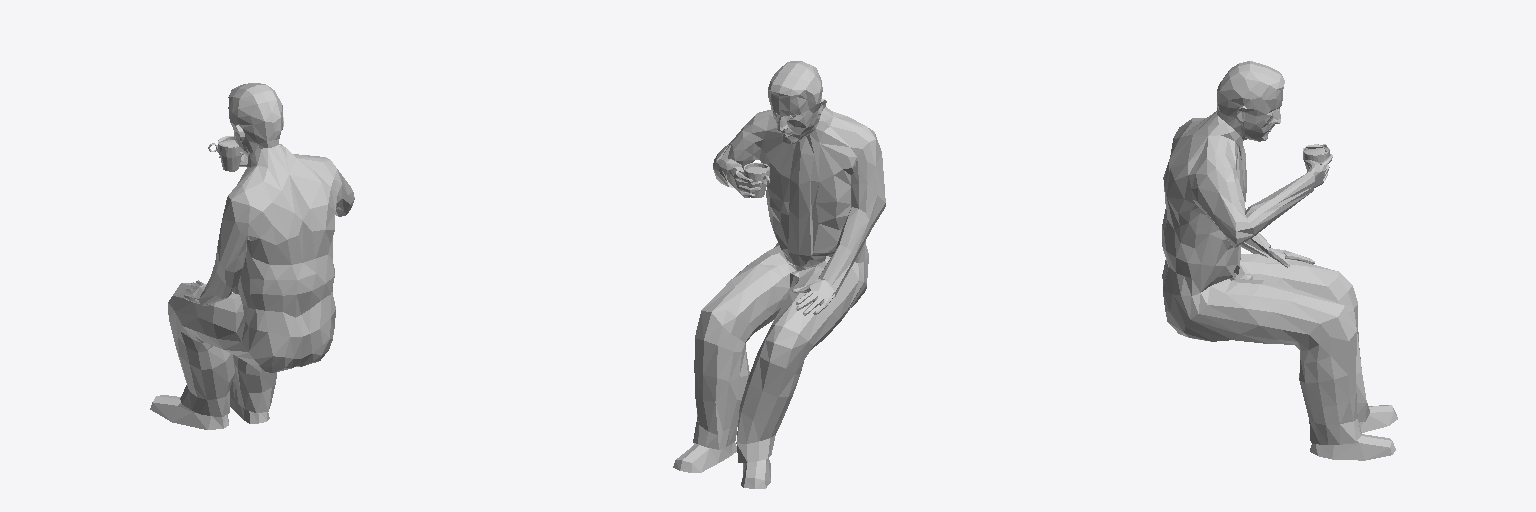
Rendered from BMan0003-Se.obj.
3 views of the same model, side by side, from view 1: azimuth 30°, elevation 25°; view 2: azimuth 150°, elevation 25°; view 3: azimuth 270°, elevation 25° (orthographic).
Parts seen in each view (by area): view 1: bman0003_se_layer1; view 2: bman0003_se_layer1; view 3: bman0003_se_layer1.
Part boxes in pixels (left/top/right/bottom): bman0003_se_layer1: left=150, top=83, right=354, bottom=429; bman0003_se_layer1: left=673, top=61, right=885, bottom=488; bman0003_se_layer1: left=1162, top=61, right=1397, bottom=460.
Bounding box in the file's own units: 0.5972 × 1.37 × 0.7929.